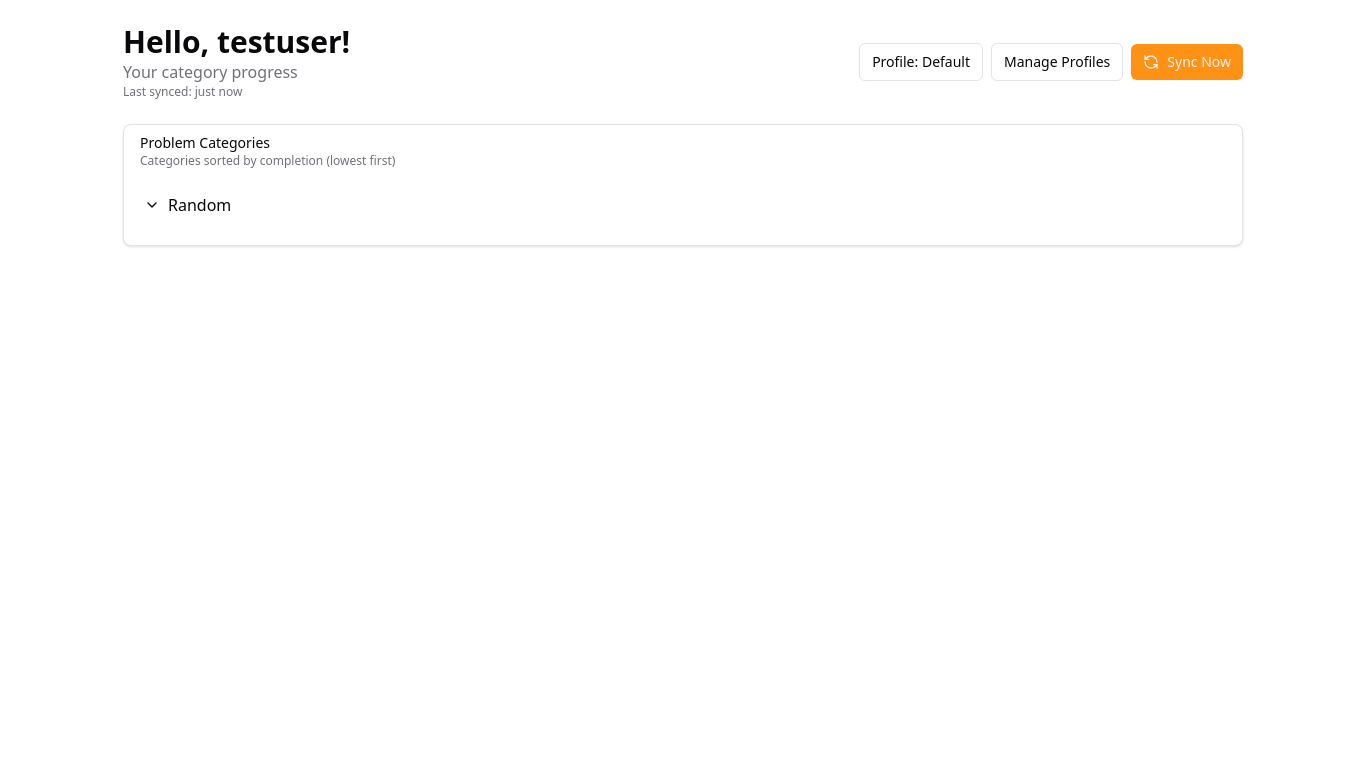
Scenario: Dashboard – Manage Profiles modal › opens and closes the Manage Profiles modal
The image size is (1366, 768).
Later steps or results of the test are not shown.
Click the button "Manage Profiles" at (1057, 62), box [991,43,1123,81]
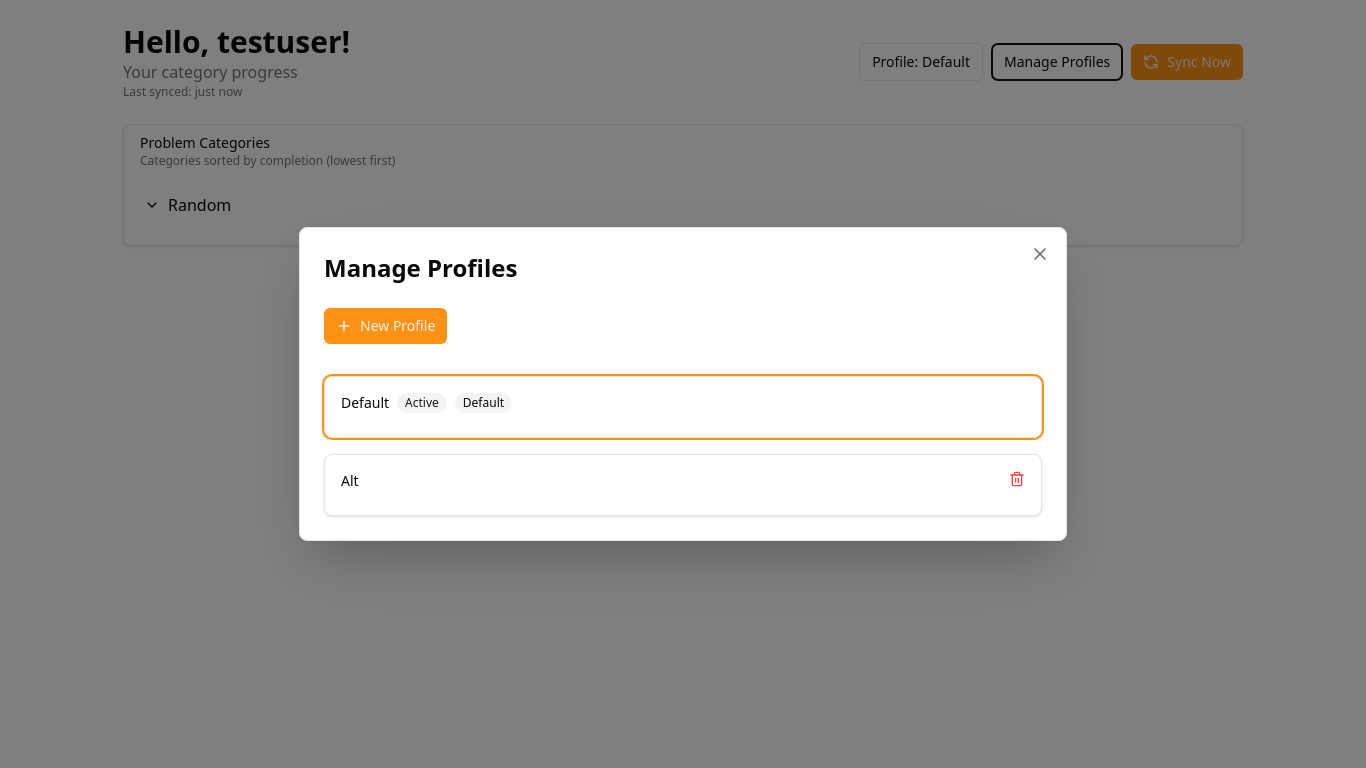
Result: the heading "Manage Profiles" is shown at [324,251,517,284]
